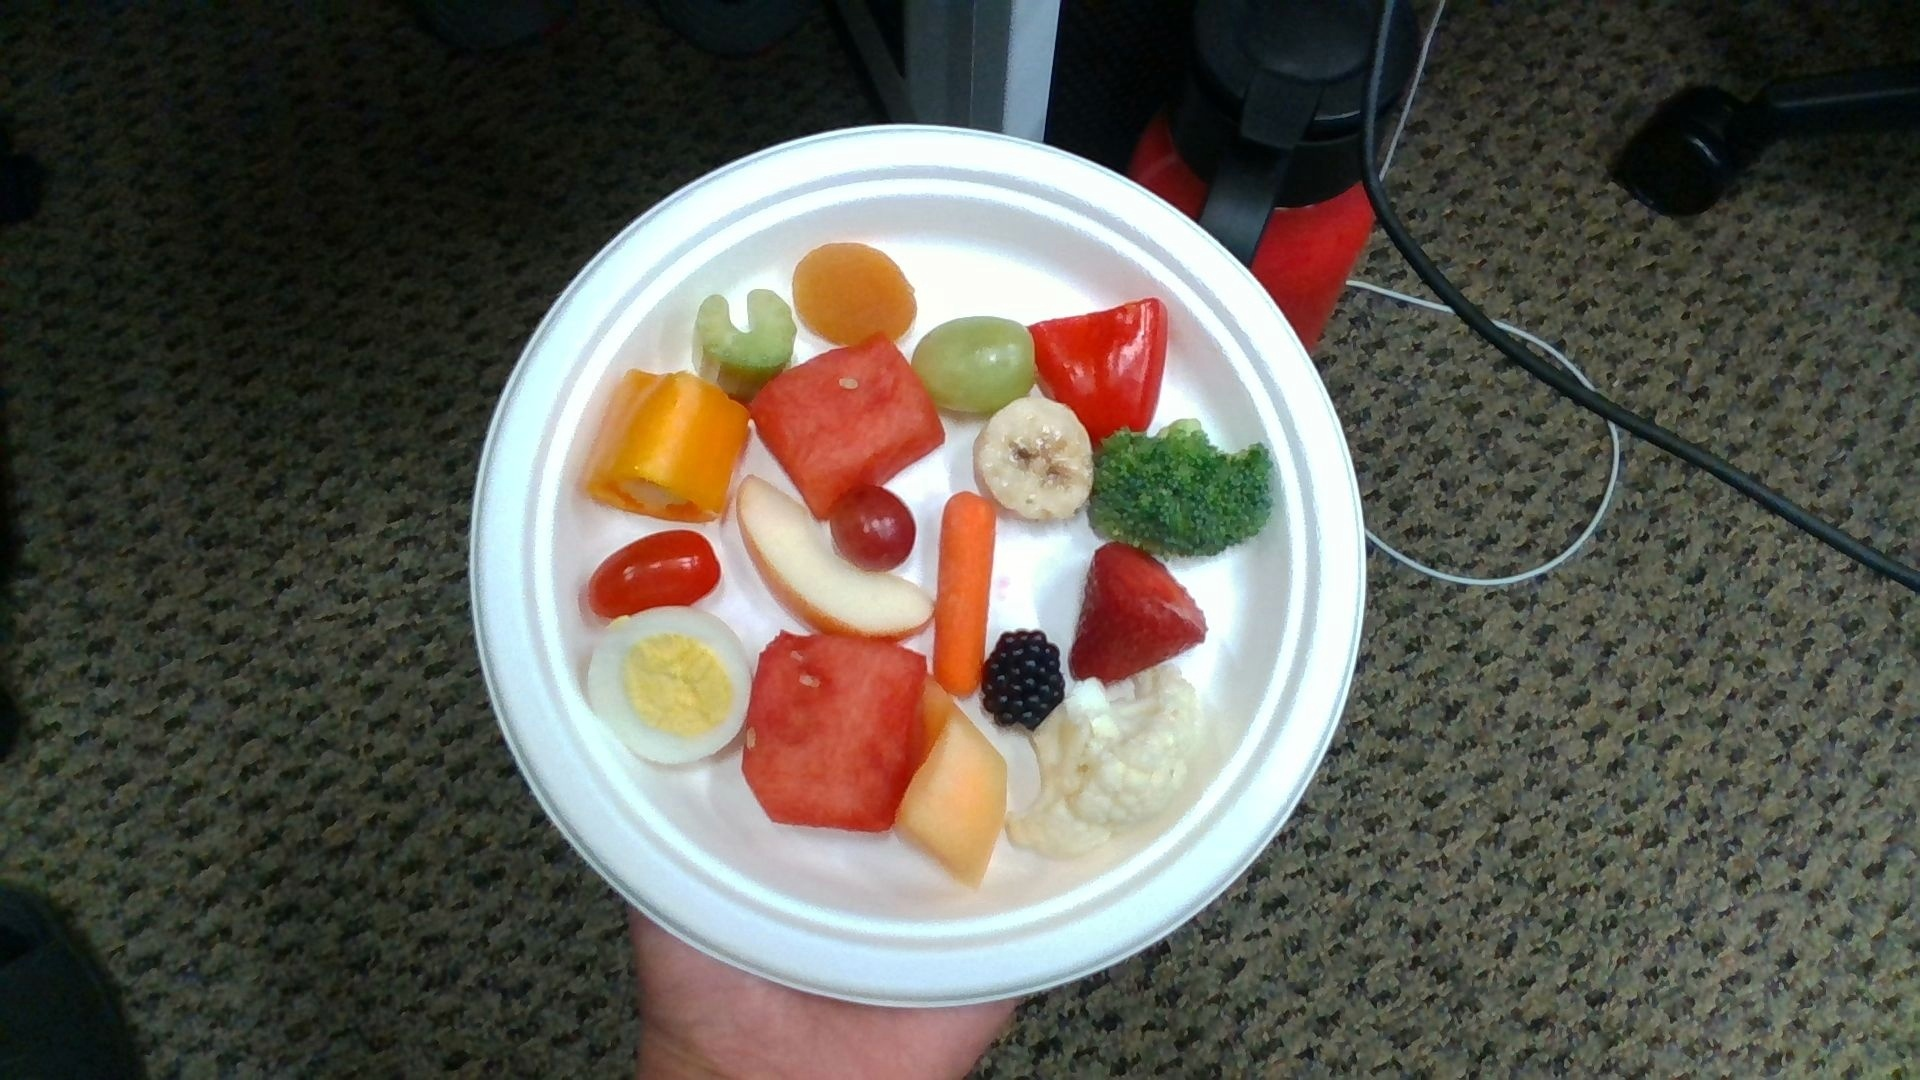apple: (742, 475, 928, 632)
apricot: (794, 243, 914, 342)
banana: (975, 401, 1095, 525)
bell_pepper: (582, 368, 745, 521), (1029, 301, 1167, 440)
blackberry: (984, 626, 1062, 728)
broccoli: (1092, 418, 1276, 560)
cantalope: (899, 716, 1009, 881)
carrot: (934, 496, 997, 694)
cauliflower: (1009, 673, 1195, 853)
celery: (694, 295, 794, 393)
cherry_tomato: (592, 530, 720, 616)
egg: (589, 607, 752, 764)
grape_green: (913, 318, 1035, 410)
grape_purple: (829, 487, 915, 570)
melon: (744, 633, 924, 833), (749, 336, 944, 510)
strawberry: (1069, 543, 1205, 678)
